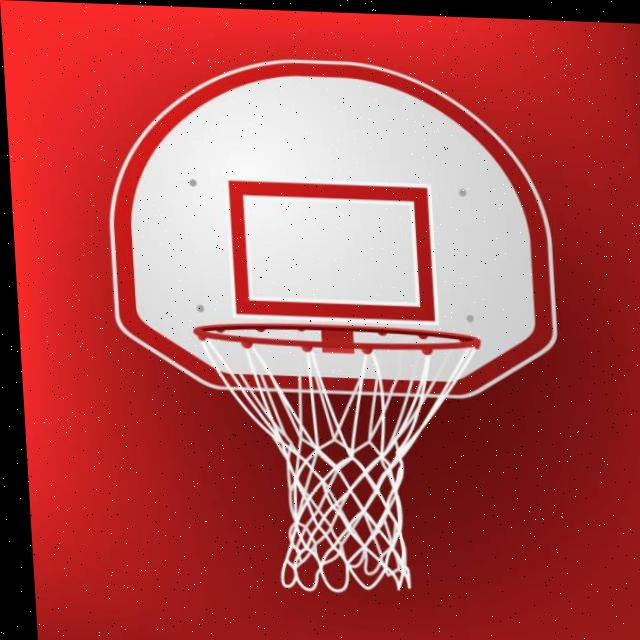hoop: (193, 319, 497, 599)
